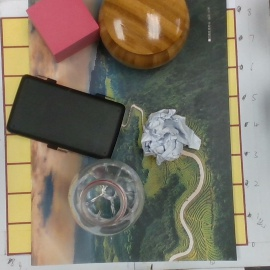bottle: (70, 158, 144, 235)
chess: (97, 1, 189, 70)
